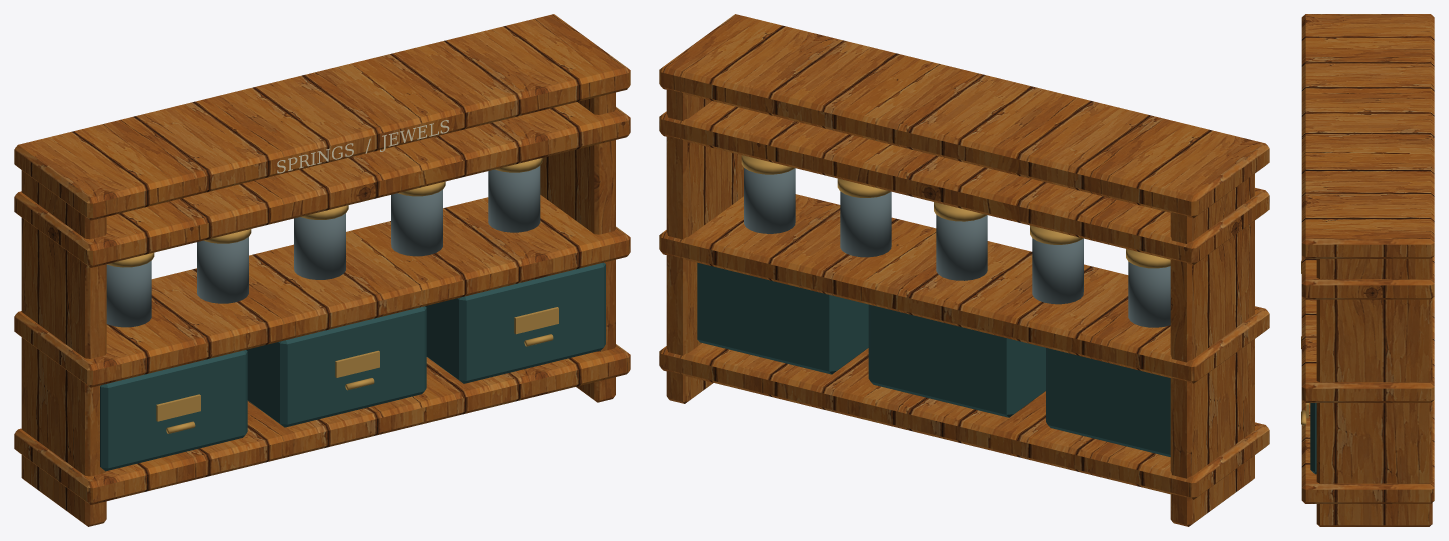
3 renders of one model, left to right at view 1: azimuth 30°, elevation 25°; view 2: azimuth 150°, elevation 25°; view 3: azimuth 270°, elevation 25°, orthographic. The views are drawn at different scales.
Visible parts, largest first — view 1: clockshop_walnut, clockshop_teal, clockshop_steel, clockshop_brass, clockshop_ivory; view 2: clockshop_walnut, clockshop_teal, clockshop_steel, clockshop_brass; view 3: clockshop_walnut, clockshop_teal.
Boxes of the visible parts, bbox=[...] form: clockshop_walnut: bbox=[14, 14, 630, 526]; clockshop_teal: bbox=[100, 262, 605, 471]; clockshop_steel: bbox=[106, 166, 540, 327]; clockshop_brass: bbox=[106, 158, 558, 433]; clockshop_ivory: bbox=[277, 120, 449, 173]; clockshop_walnut: bbox=[659, 14, 1269, 526]; clockshop_teal: bbox=[697, 262, 1170, 456]; clockshop_steel: bbox=[744, 168, 1170, 327]; clockshop_brass: bbox=[741, 155, 1170, 268]; clockshop_walnut: bbox=[1301, 14, 1434, 526]; clockshop_teal: bbox=[1310, 403, 1316, 474].
Bounding box in the file's own units: 2.52 × 1.49 × 0.636.
Materials: 5 (1 with a texture image).
